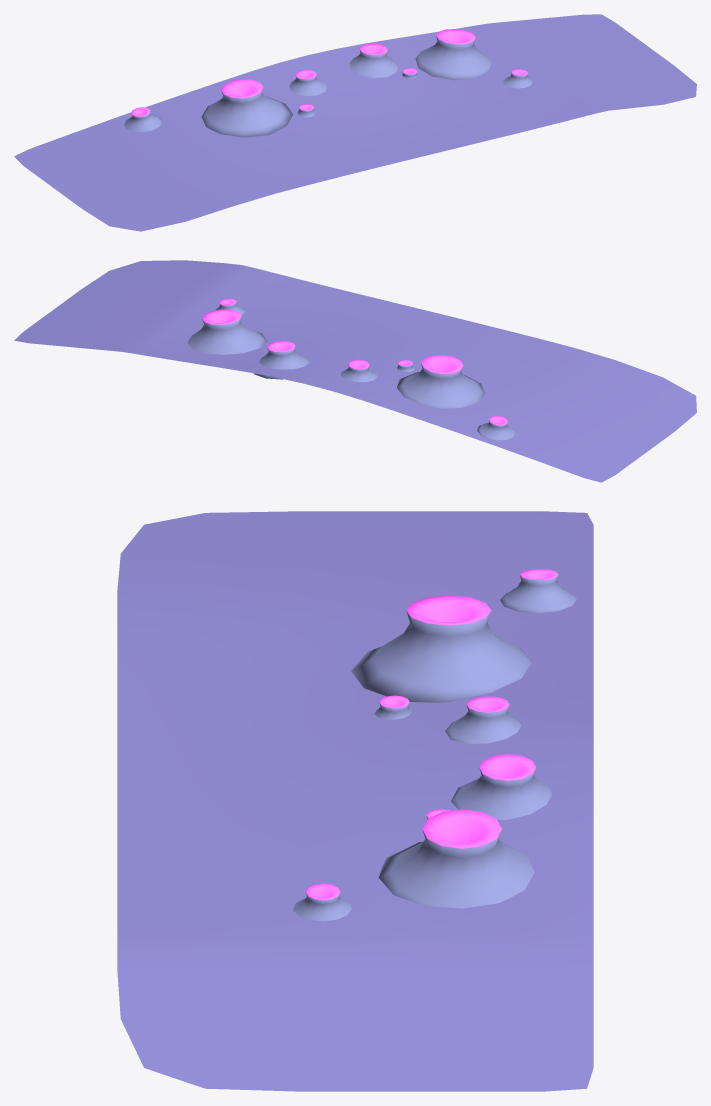
File: debossed_background.gltf
3 views of the same model, one above another, from view 1: azimuth 30°, elevation 25°; view 2: azimuth 150°, elevation 25°; view 3: azimuth 270°, elevation 25° (orthographic). The views are drawn at different scales.
Parts seen in each view (by area): view 1: debossed_background, debossed_target.006, debossed_target.003, debossed_target.002, debossed_target.001, debossed_target.008, debossed_target.004; view 2: debossed_background, debossed_target.006, debossed_target.003, debossed_target.002, debossed_target.008, debossed_target.001; view 3: debossed_background, debossed_target.006, debossed_target.003, debossed_target.002, debossed_target.001, debossed_target.008, debossed_target.004.
Boxes of the visible parts, x1=… form: debossed_background: x1=14, y1=14, x2=696, y2=231; debossed_target.006: x1=201, y1=79, x2=292, y2=137; debossed_target.003: x1=415, y1=29, x2=491, y2=80; debossed_target.002: x1=349, y1=43, x2=398, y2=78; debossed_target.001: x1=289, y1=70, x2=327, y2=96; debossed_target.008: x1=124, y1=107, x2=162, y2=132; debossed_target.004: x1=503, y1=69, x2=532, y2=88; debossed_background: x1=14, y1=260, x2=696, y2=482; debossed_target.006: x1=397, y1=354, x2=485, y2=408; debossed_target.003: x1=187, y1=309, x2=266, y2=354; debossed_target.002: x1=253, y1=341, x2=309, y2=379; debossed_target.008: x1=477, y1=416, x2=515, y2=440; debossed_target.001: x1=340, y1=360, x2=377, y2=382; debossed_background: x1=117, y1=511, x2=593, y2=1091; debossed_target.006: x1=351, y1=595, x2=531, y2=702; debossed_target.003: x1=378, y1=809, x2=534, y2=908; debossed_target.002: x1=451, y1=754, x2=551, y2=819; debossed_target.001: x1=445, y1=696, x2=521, y2=743; debossed_target.008: x1=500, y1=568, x2=576, y2=613; debossed_target.004: x1=293, y1=883, x2=351, y2=921.
Bounding box in the file's own units: 11.3 × 0.8893 × 3.94.
